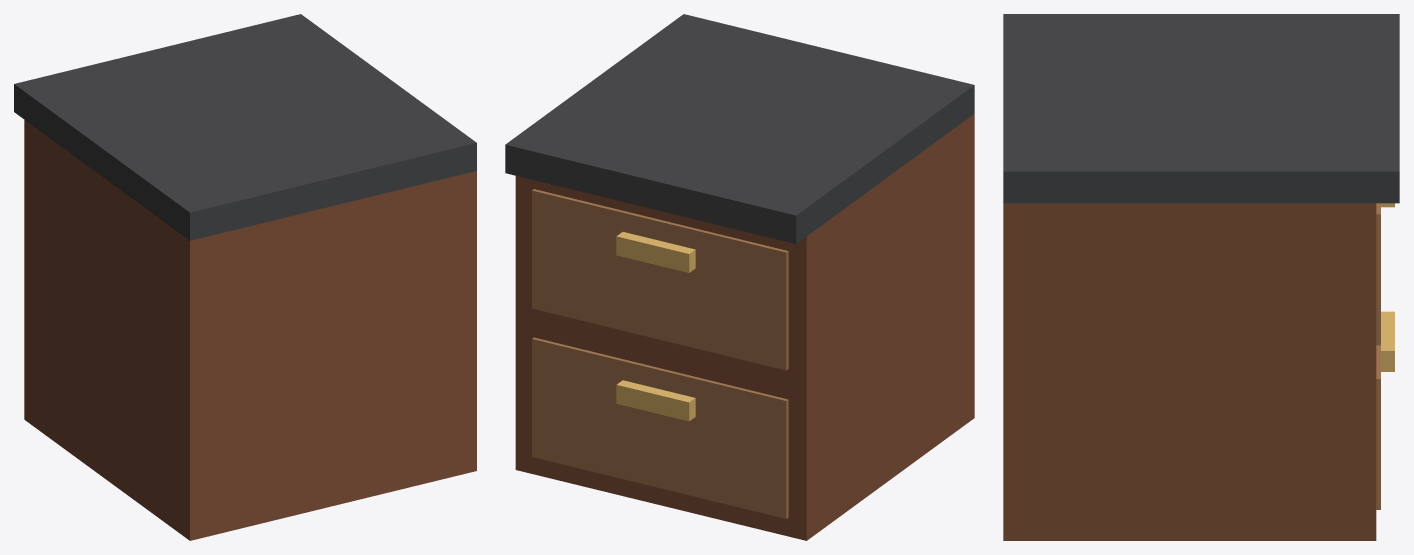
Rendered from cabinet.fbx.
The picture shows the model from 3 angles, left to right: view 1: azimuth 30°, elevation 25°; view 2: azimuth 150°, elevation 25°; view 3: azimuth 270°, elevation 25°; orthographic projection. The views are drawn at different scales.
Parts seen in each view (by area): view 1: cube, cube_1; view 2: cube, cube_1, cube_2, cube_3, cube_4, cube_5; view 3: cube, cube_1, cube_4, cube_2, cube_3.
Part boxes in pixels (x1,y1,x2,y2): cube: [24, 120, 476, 540]; cube_1: [14, 14, 476, 240]; cube: [515, 114, 974, 540]; cube_1: [505, 14, 974, 243]; cube_2: [532, 337, 788, 518]; cube_3: [532, 189, 788, 370]; cube_4: [616, 380, 695, 421]; cube_5: [616, 232, 695, 272]; cube: [1003, 203, 1376, 540]; cube_1: [1003, 14, 1399, 203]; cube_4: [1381, 311, 1394, 371]; cube_2: [1376, 345, 1380, 509]; cube_3: [1376, 203, 1380, 345].
Size of the model in its own units: 50 by 54.69 by 53.12.
1 material, 1 textured.
